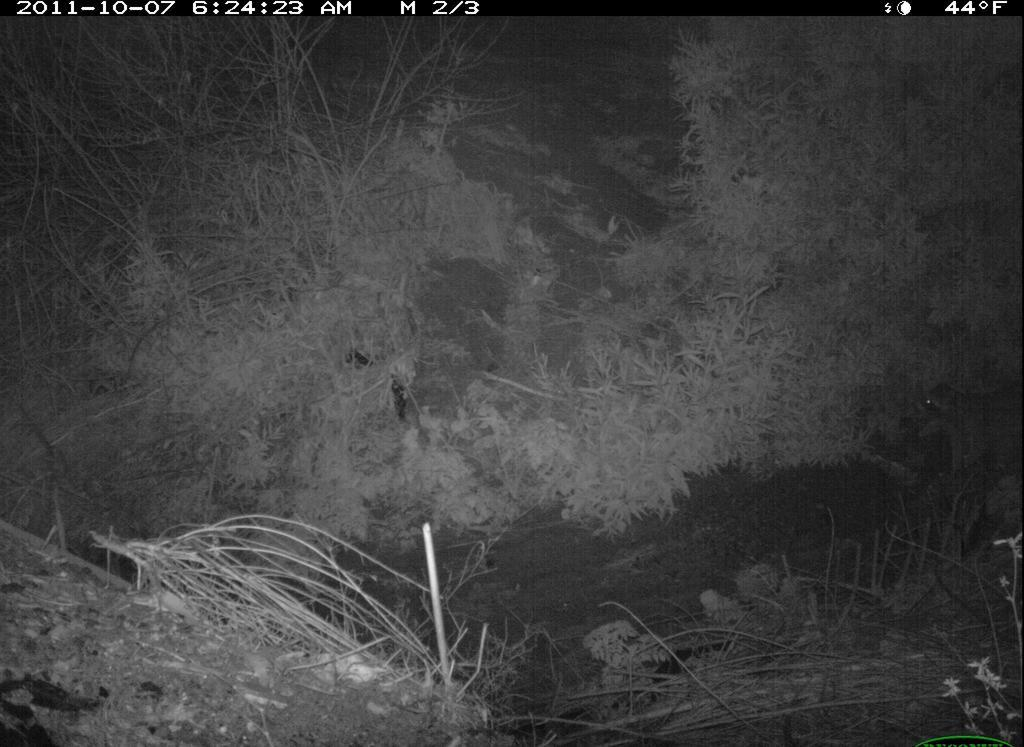raccoon: (908, 373, 1023, 488)
